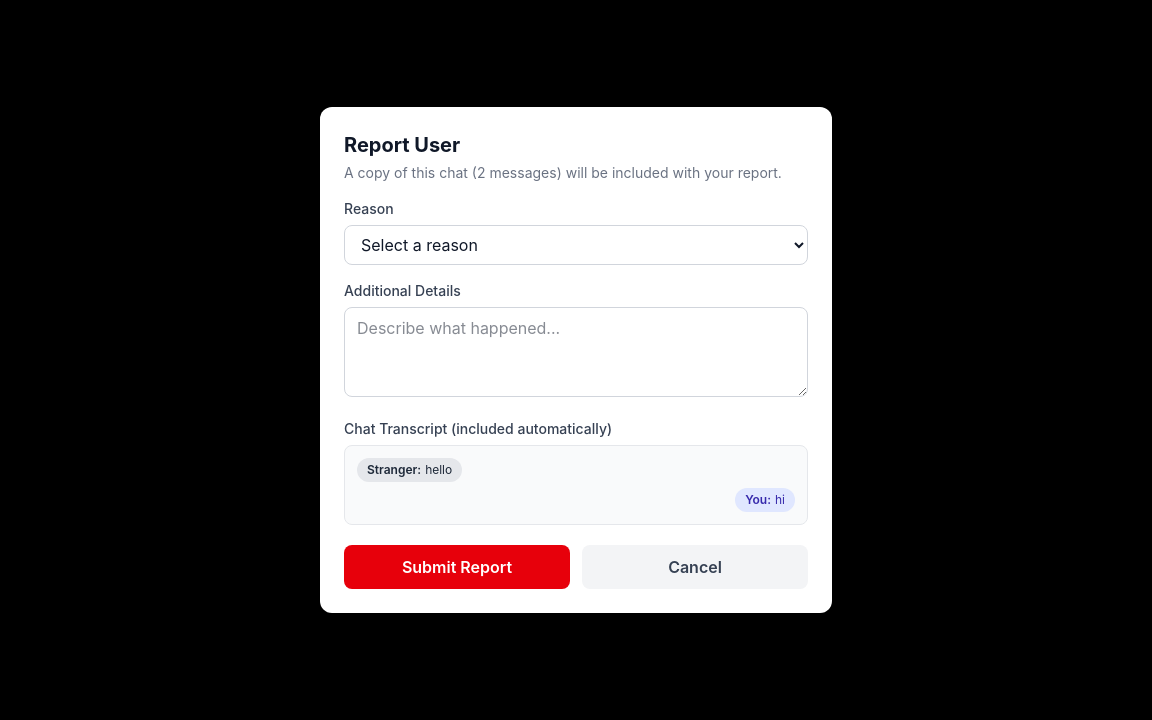
ReportDialog › submits a report and renders the success state
The image size is (1152, 720).
Select "Harassment" in the dropdown at (576, 245), box [344,225,808,265]
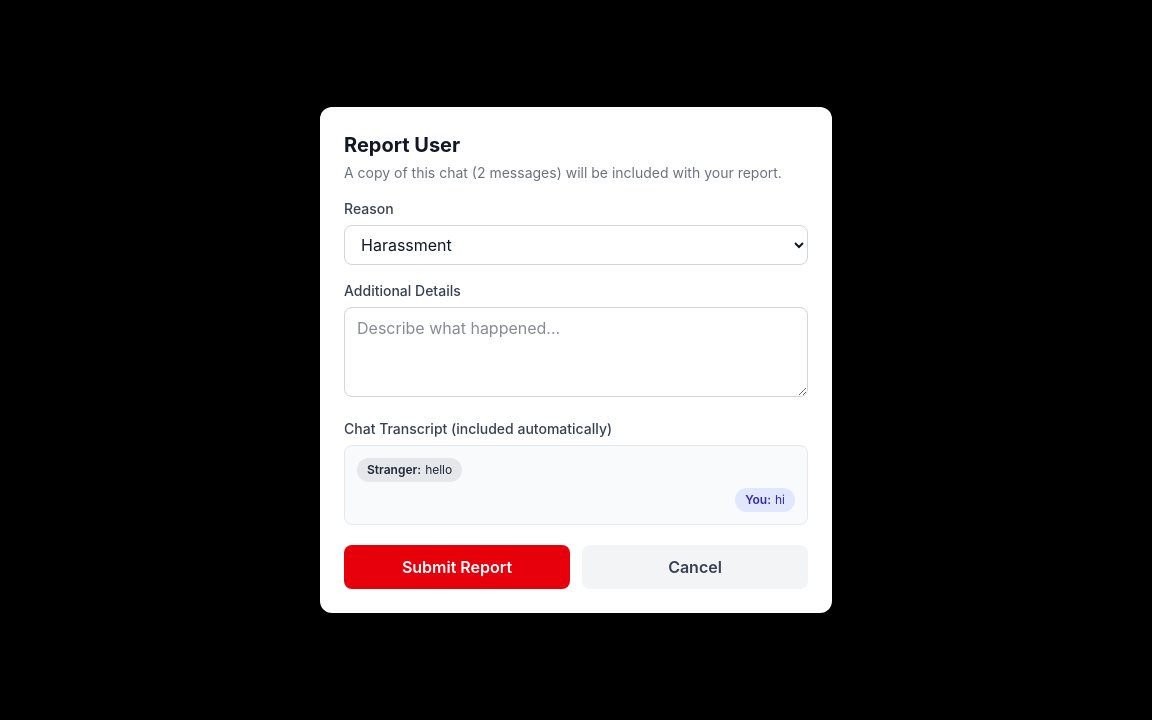
Type "Repeated abuse" into the text box at (576, 352), box [344,307,808,397]
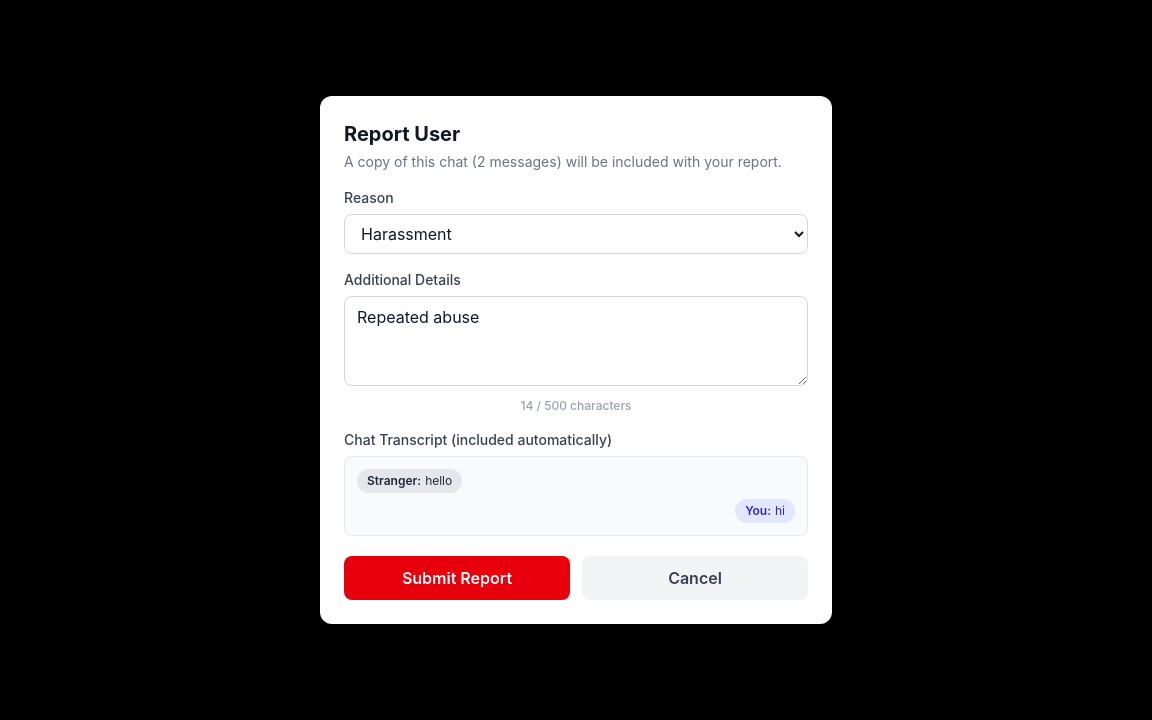
Click the button "Submit Report" at (457, 578), box [344,556,570,600]
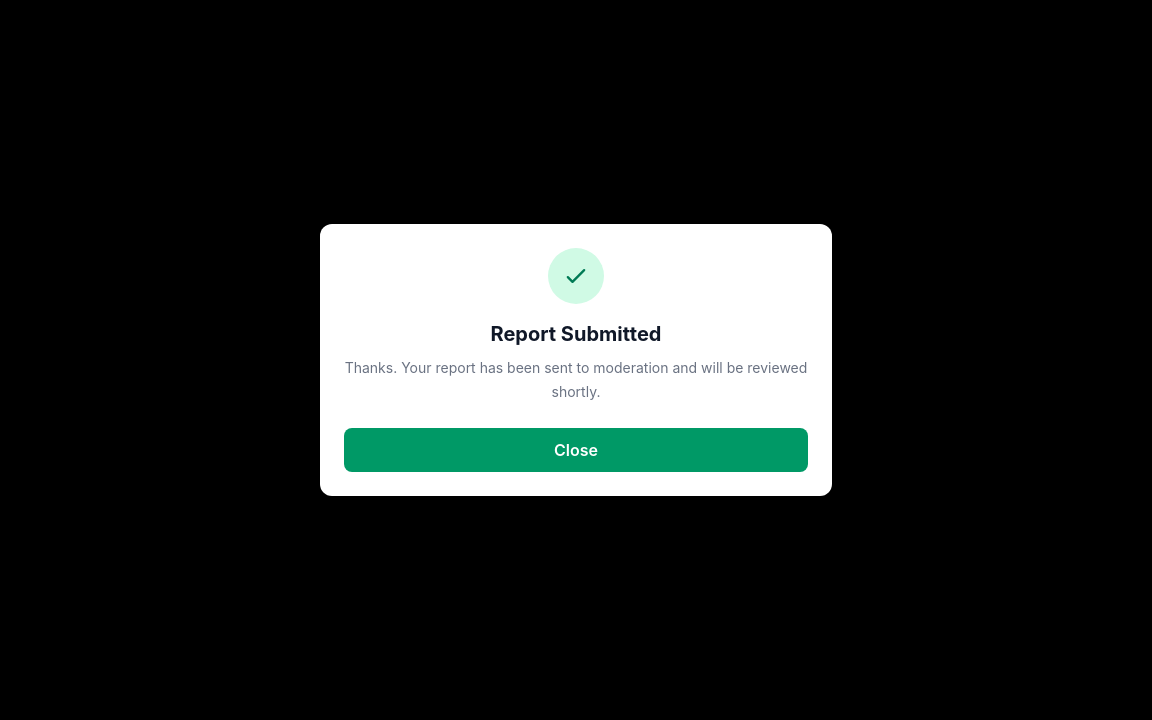
Now the heading "Report Submitted" is shown, box [491,320,662,348]
